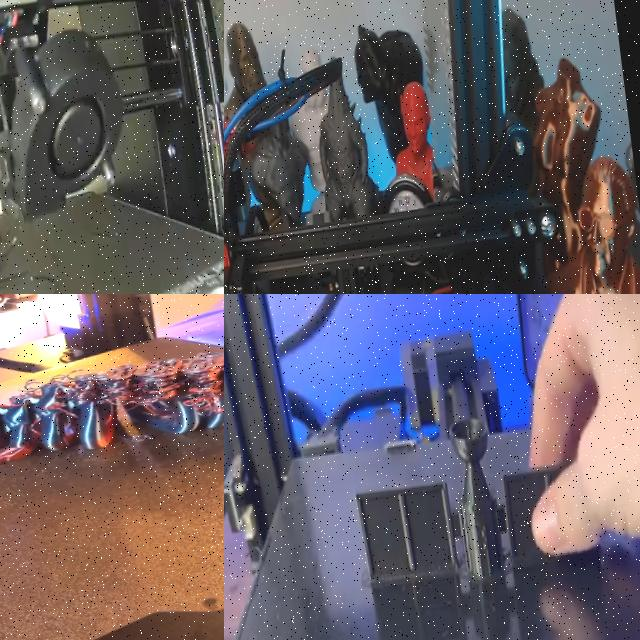spaghetti: (30, 322, 224, 439), (0, 197, 31, 294)
